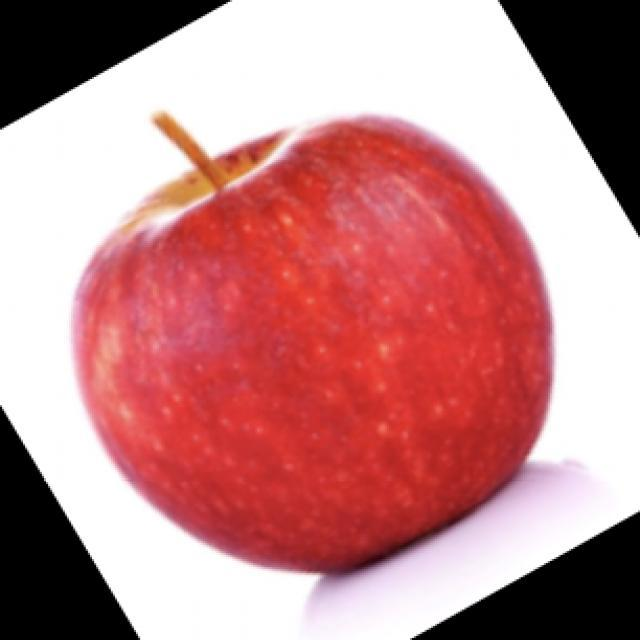Fresh Apple: (71, 135, 566, 560)
